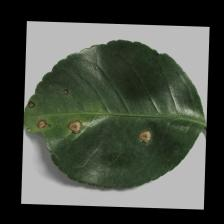canker: (27, 81, 161, 167)
